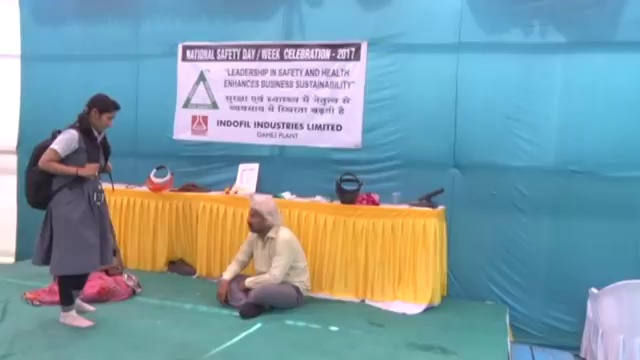helmet_off: (84, 95, 123, 136), (246, 194, 279, 237)
person: (22, 92, 122, 330), (216, 192, 312, 321)
